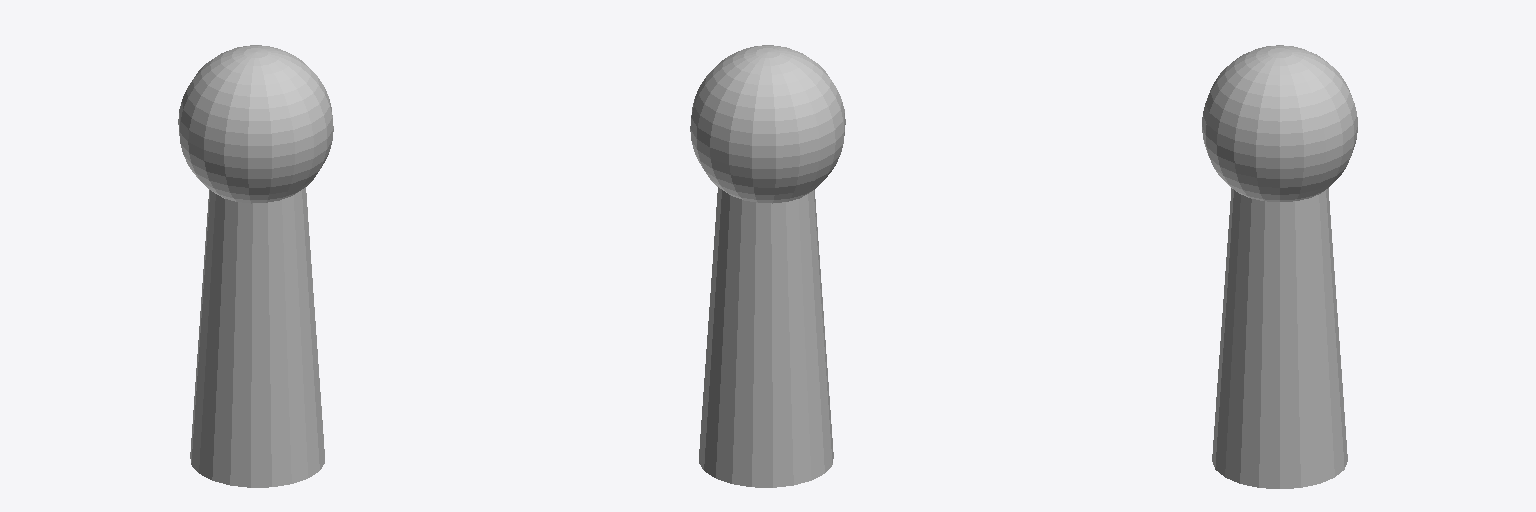
Rendered from headandbody.obj.
The picture shows the model from 3 angles: view 1: azimuth 30°, elevation 25°; view 2: azimuth 150°, elevation 25°; view 3: azimuth 270°, elevation 25°; orthographic projection.
Parts seen in each view (by area): view 1: initialShadingGroup pCylinder2; view 2: initialShadingGroup pCylinder2; view 3: initialShadingGroup pCylinder2.
Boxes of the visible parts, box(x1,y1,x2,y2) form: initialShadingGroup pCylinder2: box(178, 45, 333, 487); initialShadingGroup pCylinder2: box(690, 45, 845, 487); initialShadingGroup pCylinder2: box(1202, 45, 1357, 488).
Bounding box in the file's own units: 1.27 × 3.66 × 1.27.